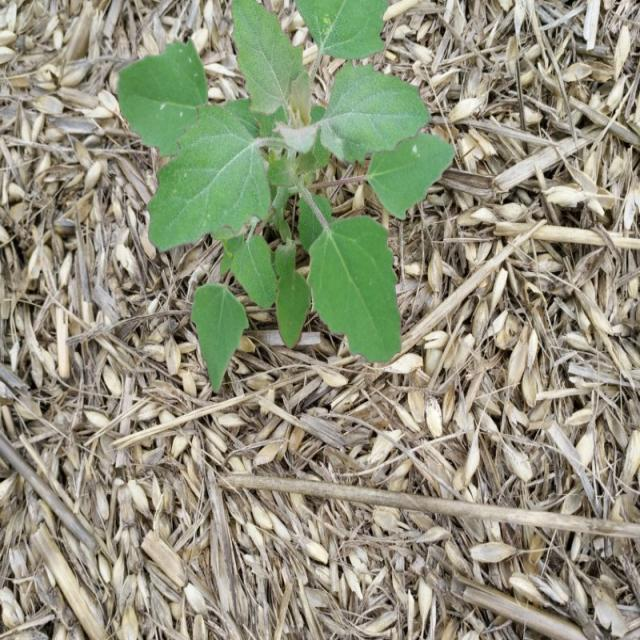goosefoots: (114, 0, 452, 370)
